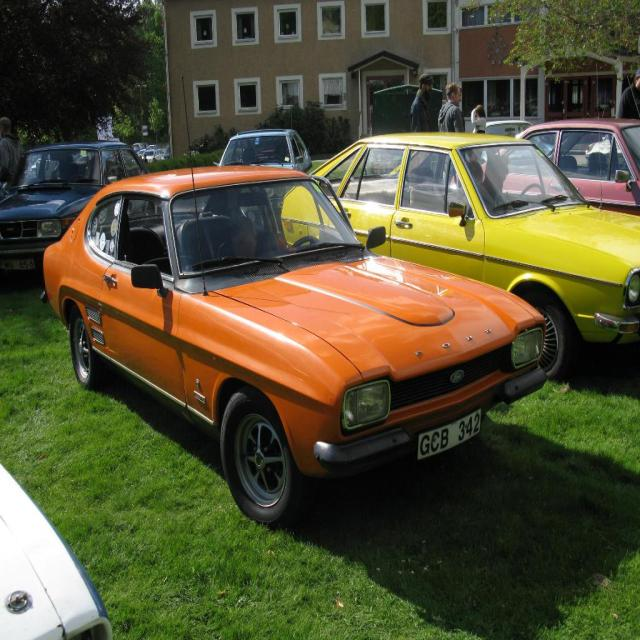car: (44, 73, 544, 529)
